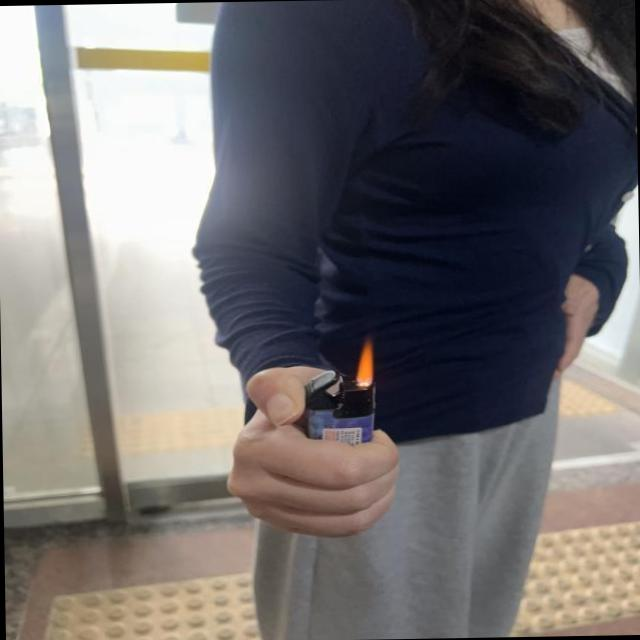Fire: (350, 339, 376, 382)
